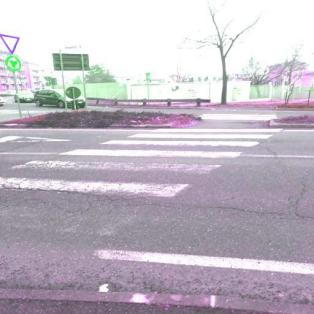Paso de Cebra: (8, 146, 246, 178), (128, 126, 290, 140)
